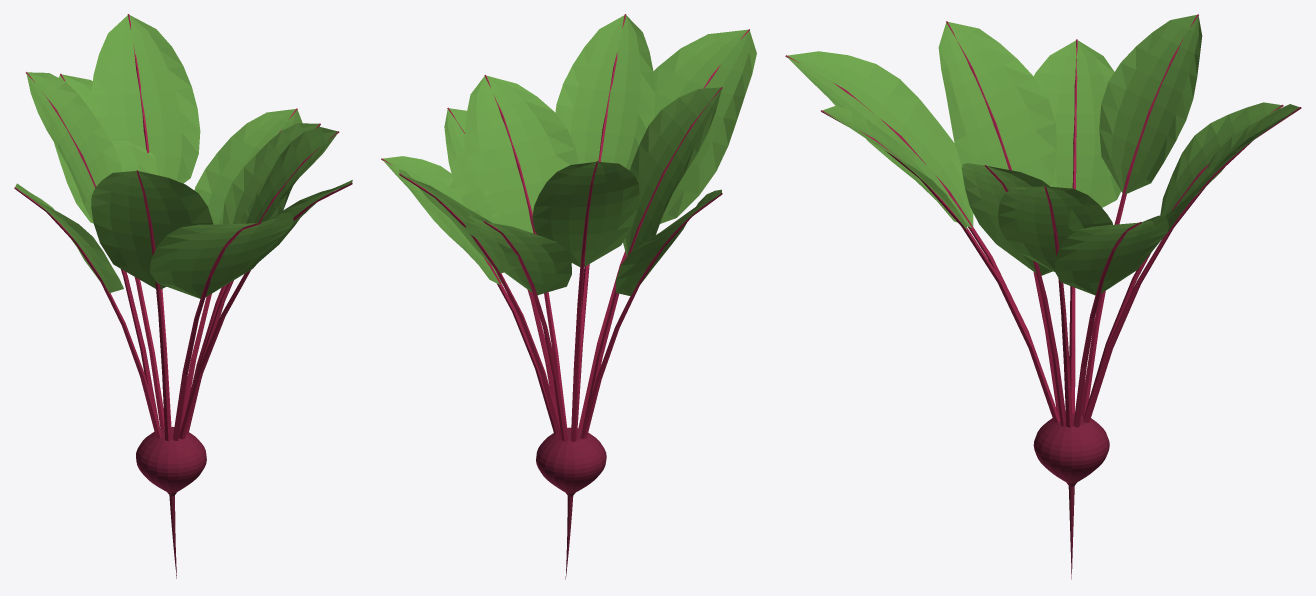
Rendered from beetroot_harvest_v16.glb.
The picture shows the model from 3 angles, left to right: view 1: azimuth 30°, elevation 25°; view 2: azimuth 150°, elevation 25°; view 3: azimuth 270°, elevation 25°; orthographic projection. The views are drawn at different scales.
Visible parts, largest first — view 1: plant; view 2: plant; view 3: plant.
Part boxes in pixels (x1=…): plant: x1=14, y1=14, x2=352, y2=578; plant: x1=381, y1=14, x2=756, y2=579; plant: x1=785, y1=14, x2=1301, y2=579.
Bounding box in the file's own units: 0.3259 × 0.4859 × 0.4368.
Materials: 1 (1 with a texture image).
